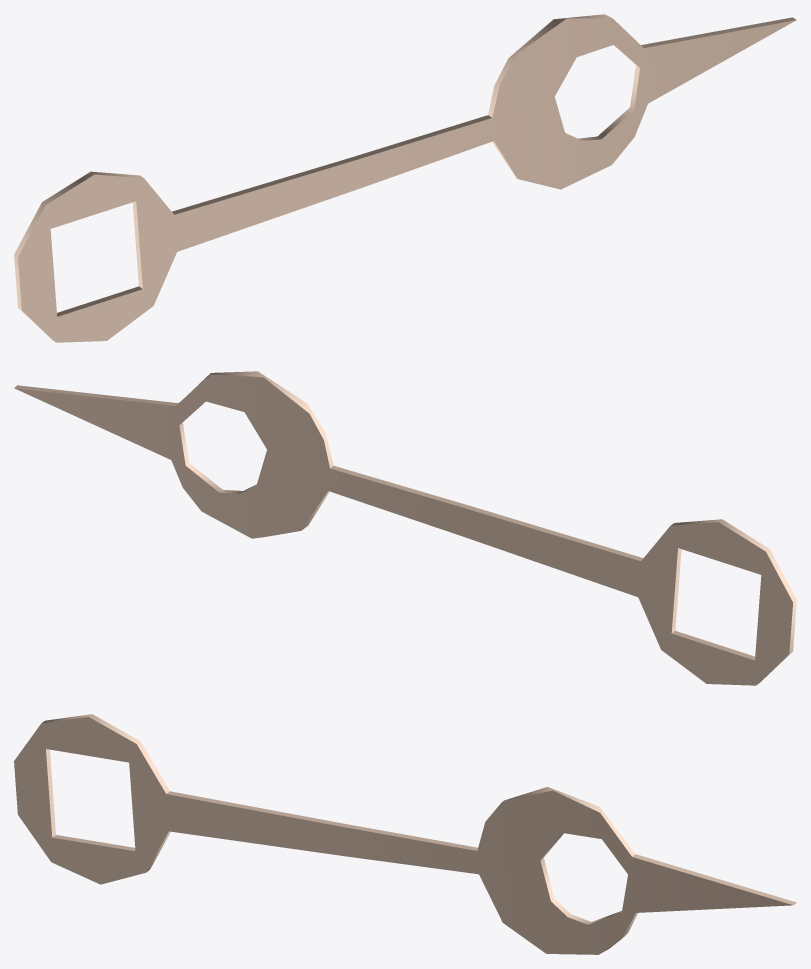
File: Aiguille Heures.obj
3 views of the same model, one above another, from view 1: azimuth 30°, elevation 25°; view 2: azimuth 150°, elevation 25°; view 3: azimuth 330°, elevation 25° (orthographic). The views are drawn at different scales.
Visible parts, largest first — view 1: Face_7, Face_3, Face_4, Face_9, Face_16, Face_15, Face_17, Face_18; view 2: Face_8, Face_5, Face_4, Face_16, Face_9, Face_17, Face_15; view 3: Face_7, Face_3, Face_4, Face_9, Face_17, Face_16, Face_15, Face_18.
Part boxes in pixels (x1,y1,x2,y2): Face_7: (357, 18, 796, 189); Face_3: (18, 160, 358, 342); Face_4: (14, 171, 143, 341); Face_9: (172, 157, 356, 214); Face_16: (488, 14, 611, 117); Face_15: (353, 115, 491, 159); Face_17: (641, 17, 796, 47); Face_18: (565, 44, 639, 141); Face_8: (15, 374, 463, 538); Face_5: (461, 508, 792, 685); Face_4: (671, 519, 796, 685); Face_16: (186, 371, 333, 468); Face_9: (463, 505, 643, 561); Face_17: (14, 385, 178, 405); Face_15: (330, 466, 466, 507); Face_7: (343, 790, 792, 954); Face_3: (14, 717, 345, 884); Face_4: (42, 714, 170, 872); Face_9: (167, 791, 346, 826); Face_17: (632, 854, 796, 905); Face_16: (488, 787, 635, 856); Face_15: (344, 824, 477, 850); Face_18: (540, 833, 621, 924).
Bounding box in the file's own units: 0.0875 × 0.022 × 0.00293.
